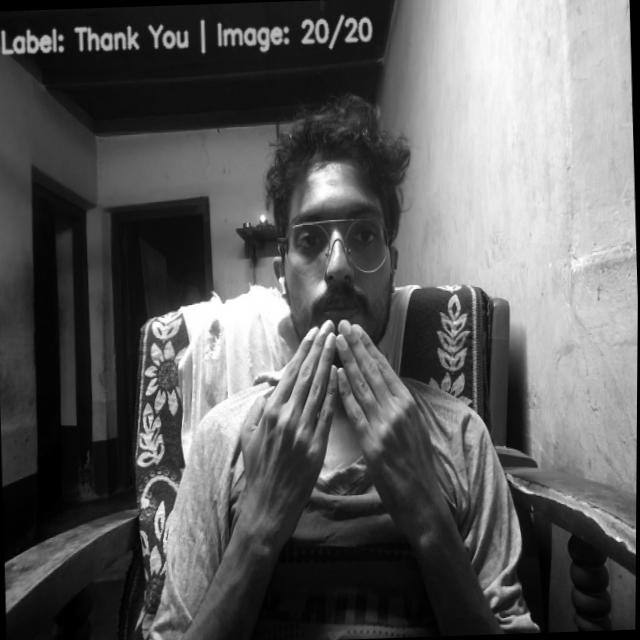Thank You: (237, 312, 446, 520)
